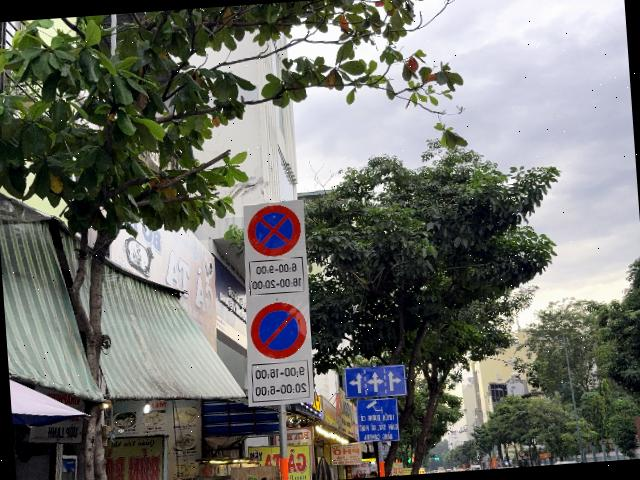cam-do-xe: (248, 299, 309, 360)
cam-dung-va-do-xe: (245, 203, 302, 258)
